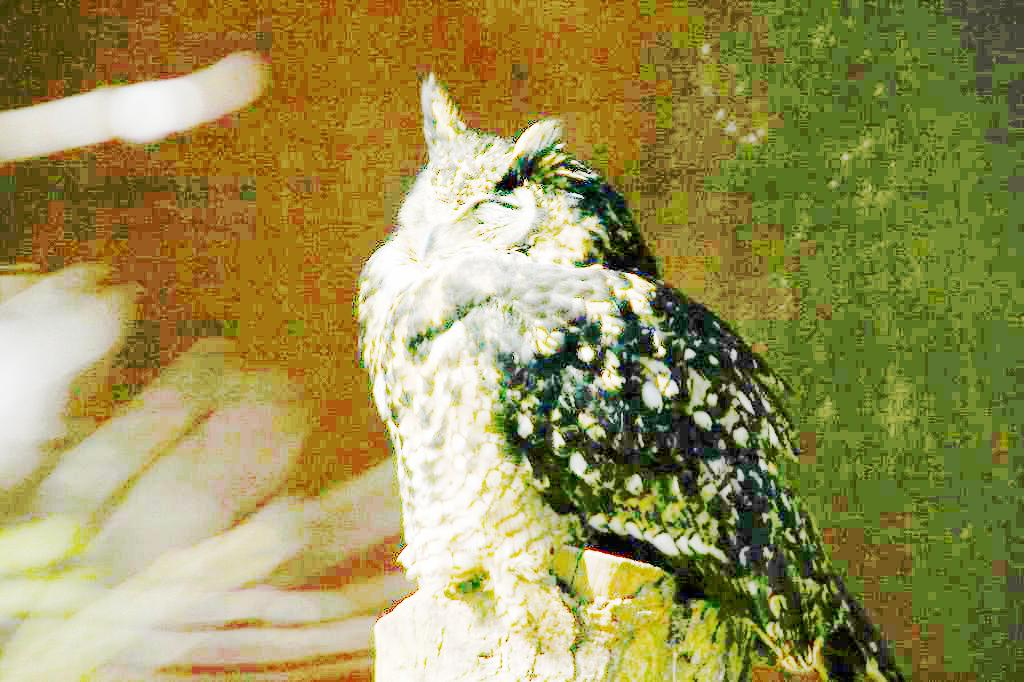Owl: (358, 72, 892, 680)
